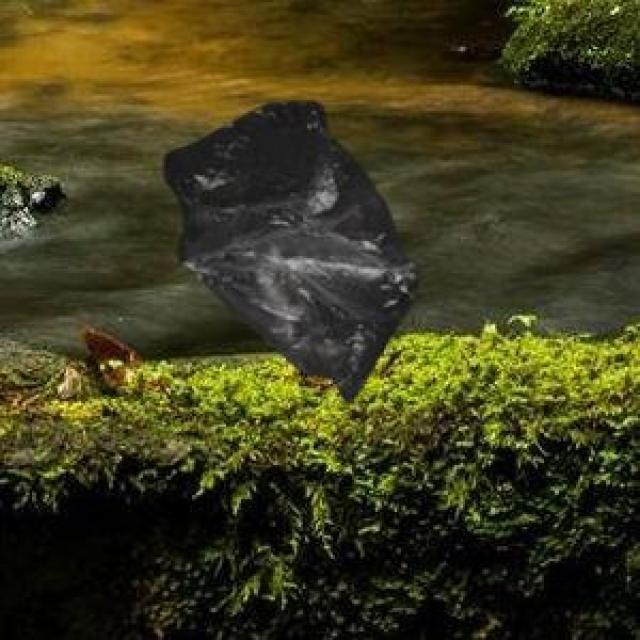waste: (165, 104, 416, 398)
